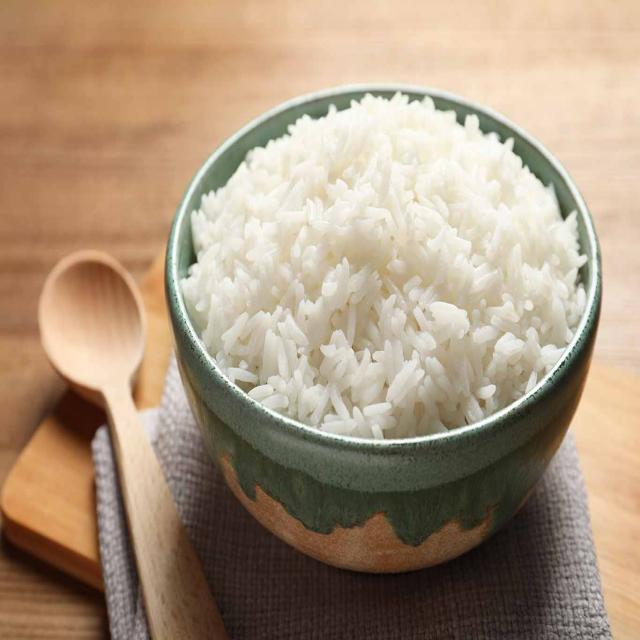arroz: (177, 93, 590, 457)
